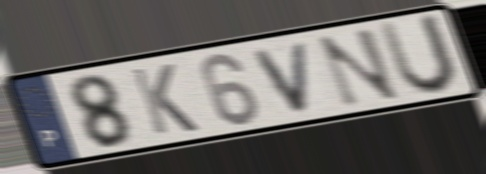6: (197, 50, 262, 128)
8: (64, 71, 135, 150)
K: (127, 61, 203, 138)
N: (314, 25, 404, 111)
U: (375, 11, 463, 98)
V: (250, 37, 314, 116)
